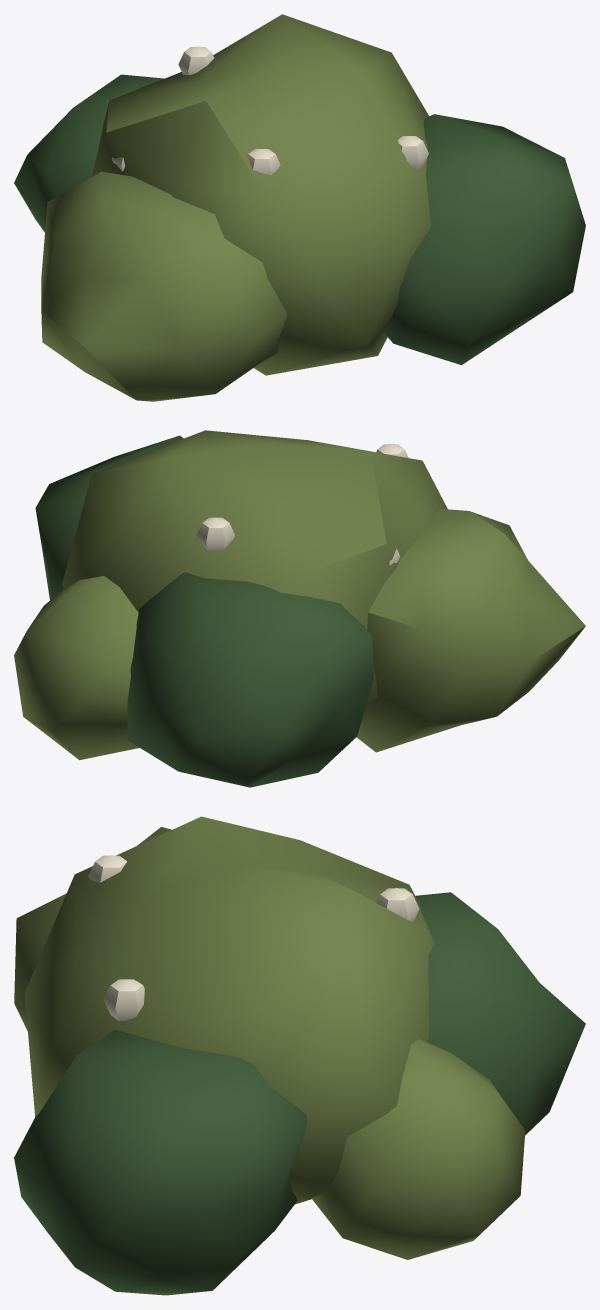
File: bush.glb
3 renders of one model, top to bottom at view 1: azimuth 30°, elevation 25°; view 2: azimuth 150°, elevation 25°; view 3: azimuth 270°, elevation 25°, orthographic. The views are drawn at different scales.
Visible parts, largest first — view 1: bush; view 2: bush; view 3: bush.
Boxes of the visible parts, x1,y1,x2,y2 form: bush: (14,14,585,401); bush: (14,430,585,787); bush: (14,816,585,1295).
Size of the model in its own units: 0.5445 by 0.3064 by 0.4461.
